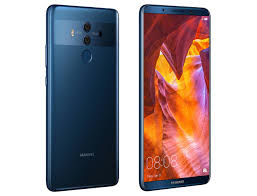huawei: (44, 3, 122, 192), (134, 3, 212, 192)
